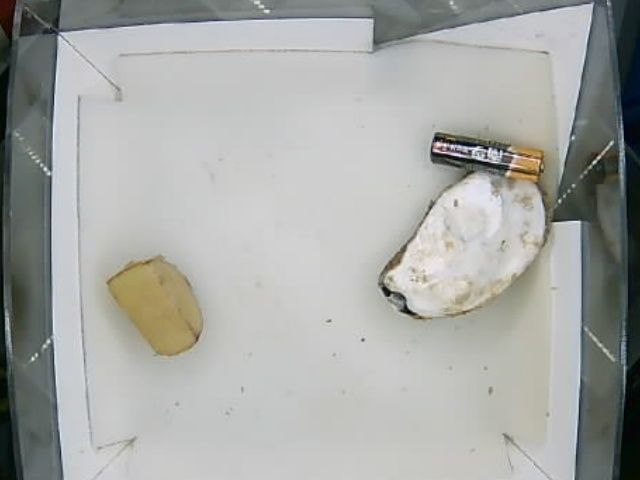Battery: (429, 129, 546, 181)
Potato: (107, 257, 208, 357)
Shell: (379, 170, 552, 322)
